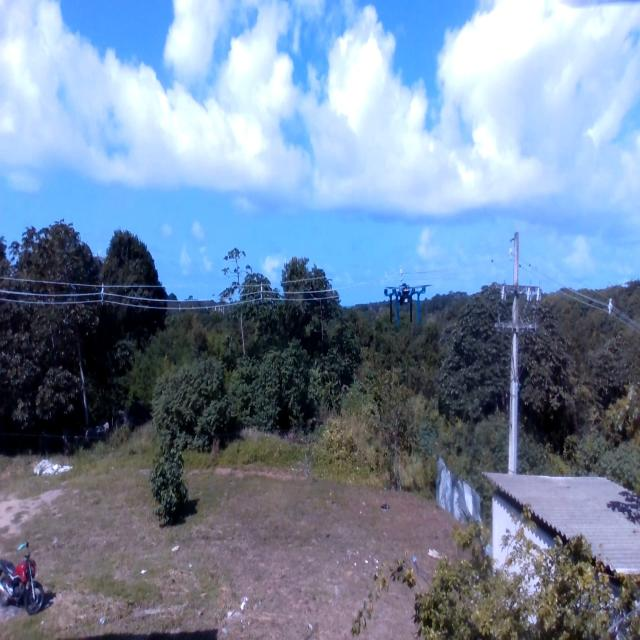-uav-: (380, 276, 440, 345)
